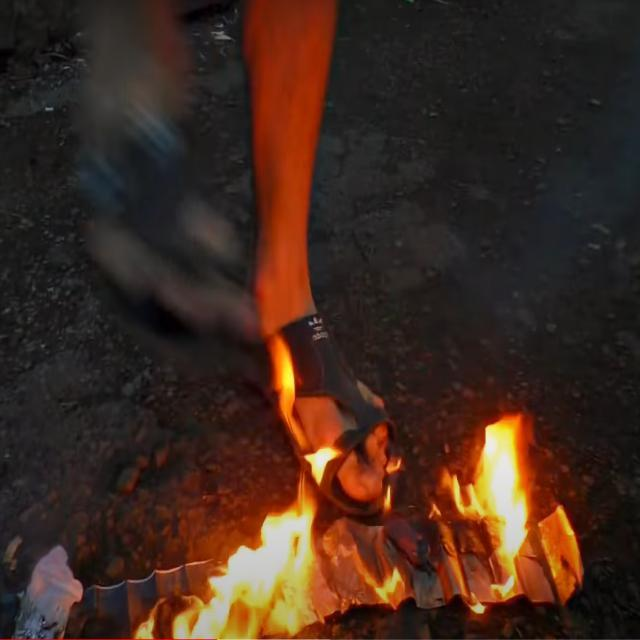Fire: (141, 500, 332, 640), (452, 404, 542, 612), (341, 463, 451, 613), (270, 332, 338, 499)
